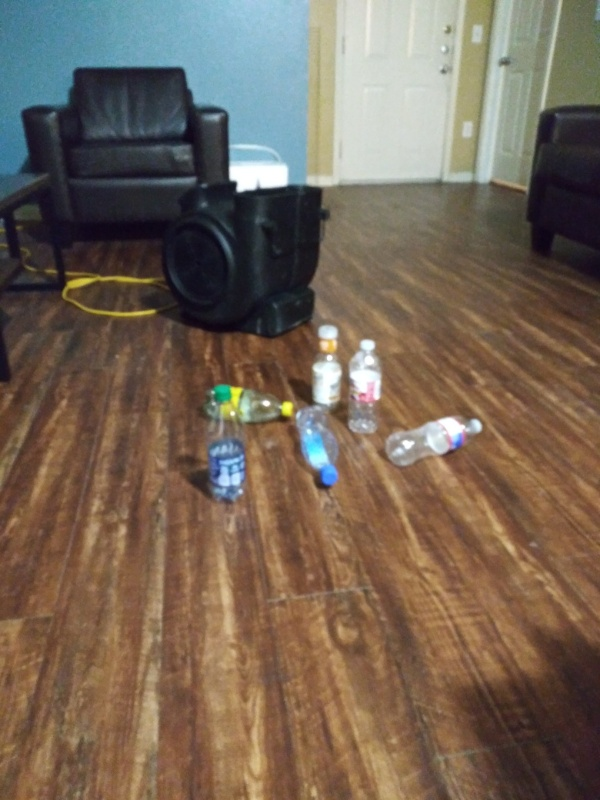bottle: (203, 382, 254, 507), (381, 411, 482, 470), (198, 378, 296, 430), (292, 402, 342, 491), (349, 336, 388, 439), (306, 322, 348, 413)
